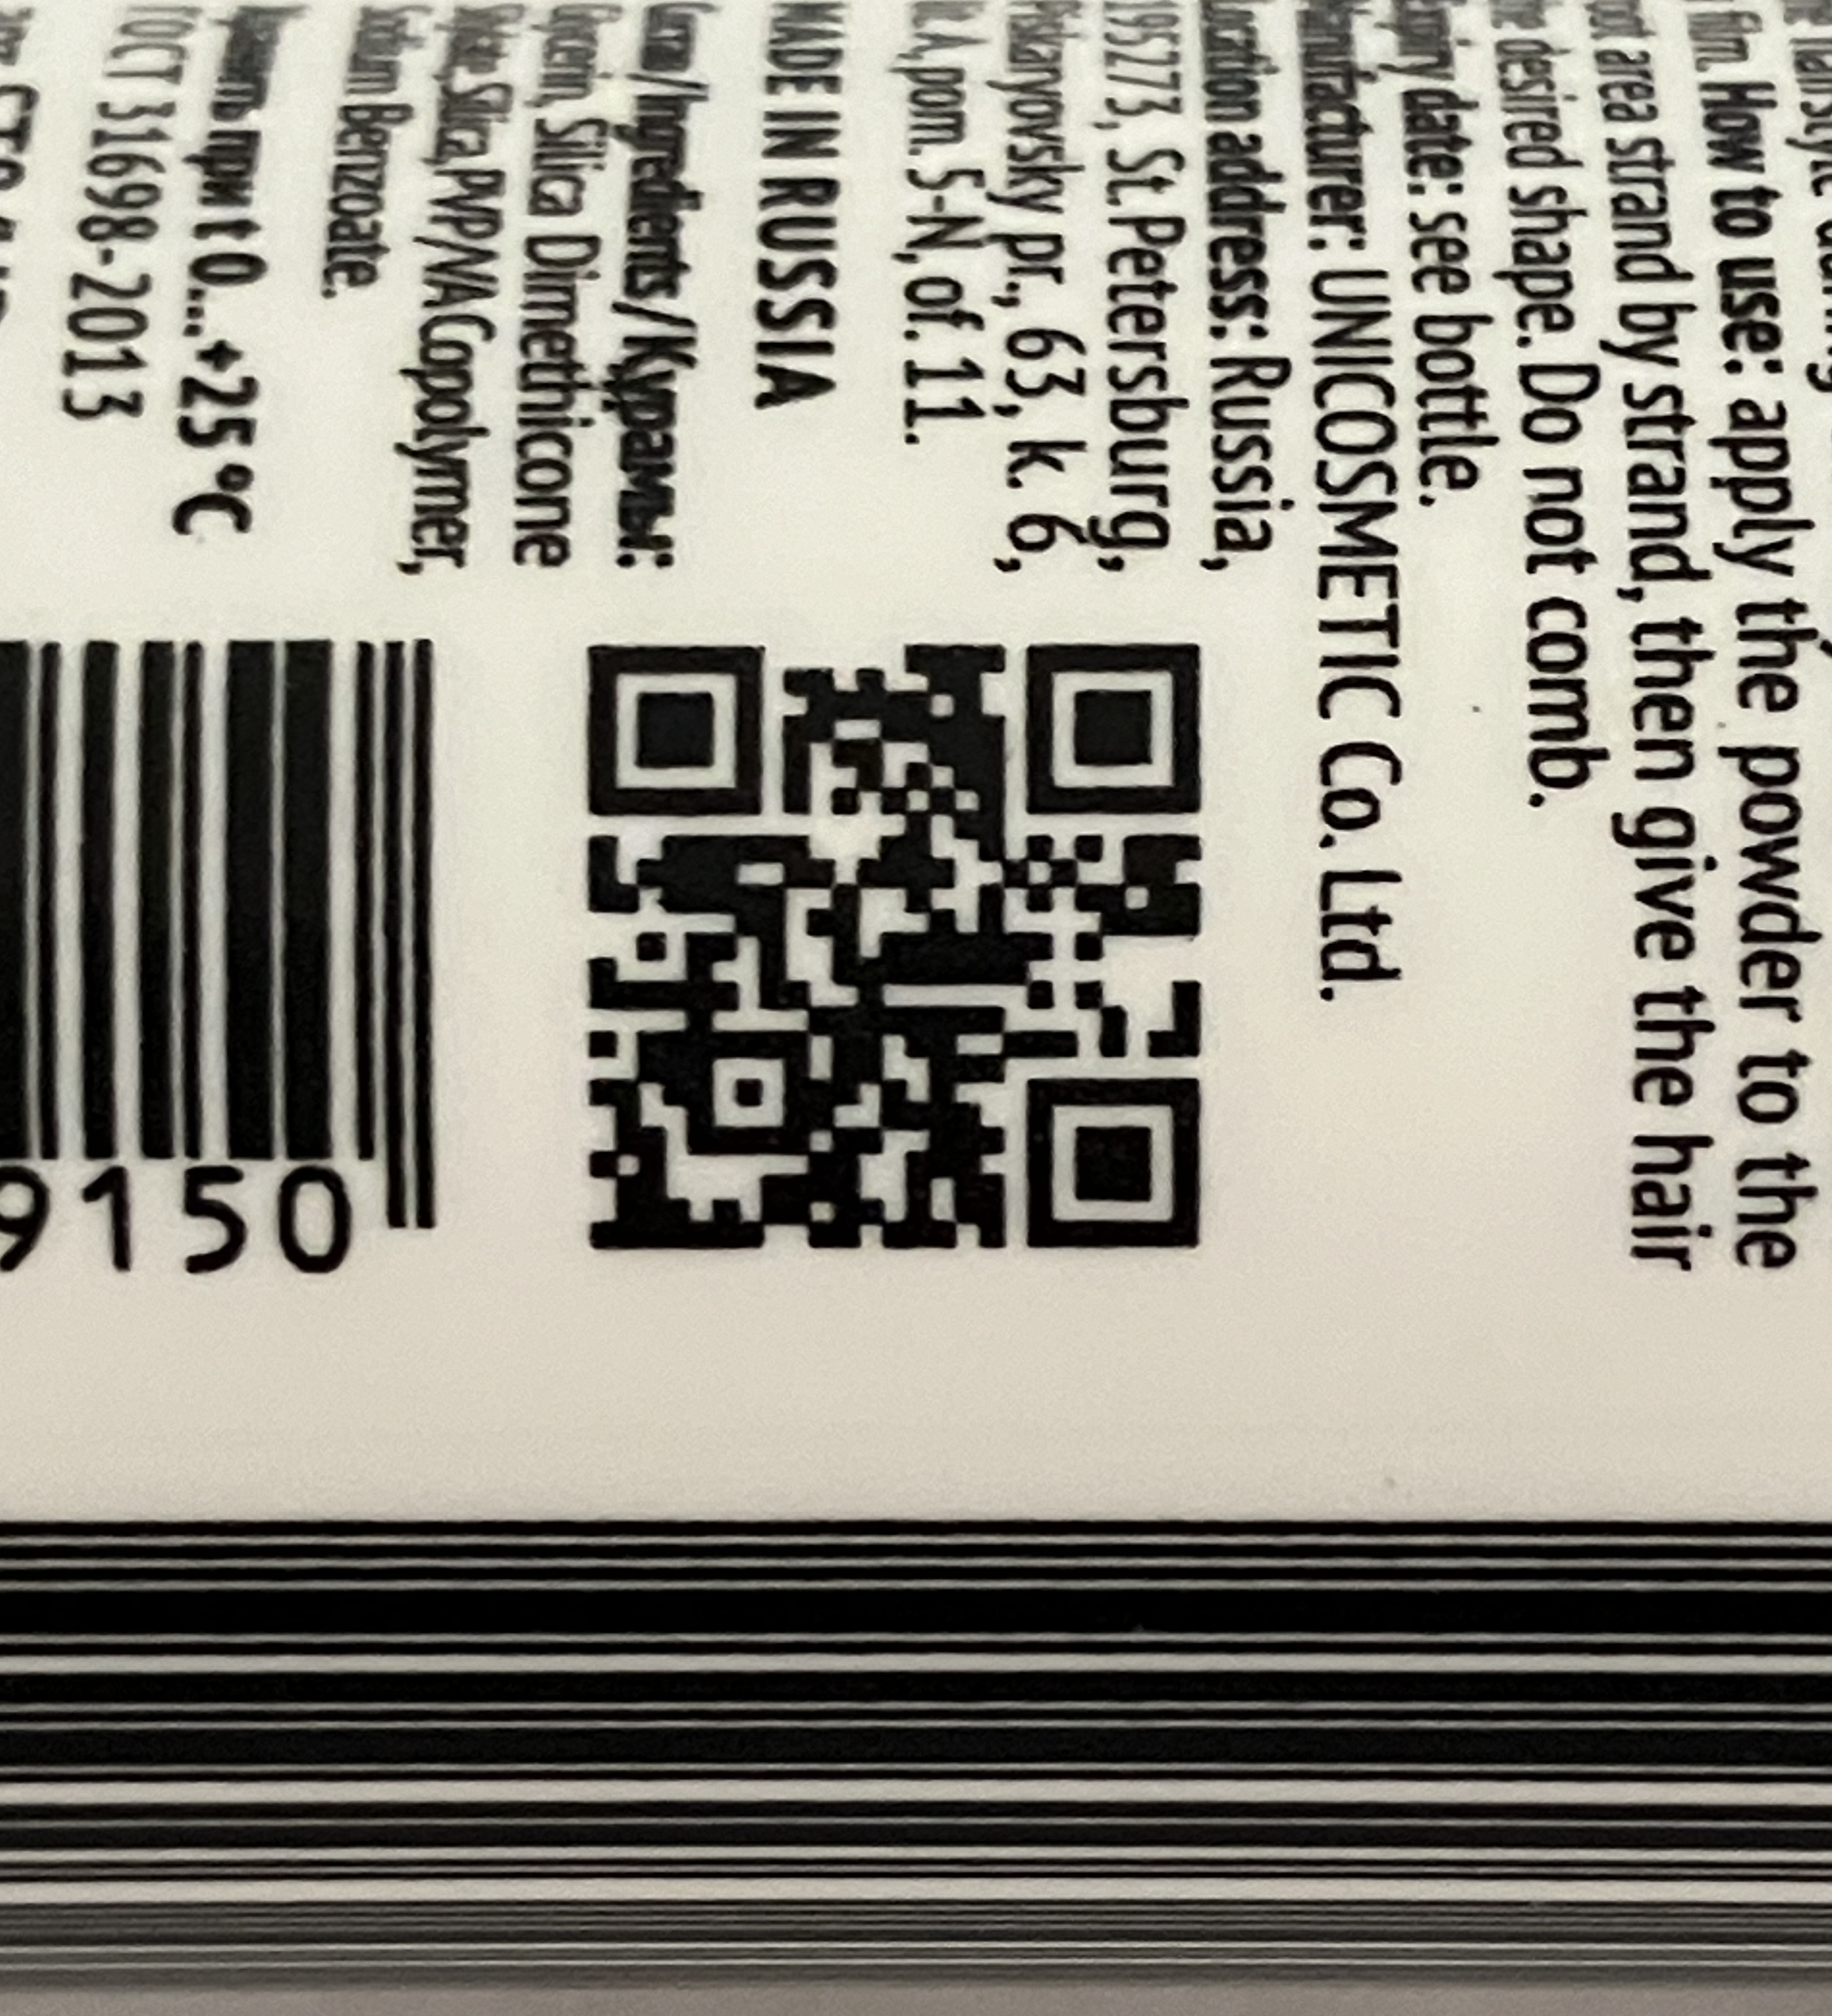2d: (588, 646, 1201, 1250)
